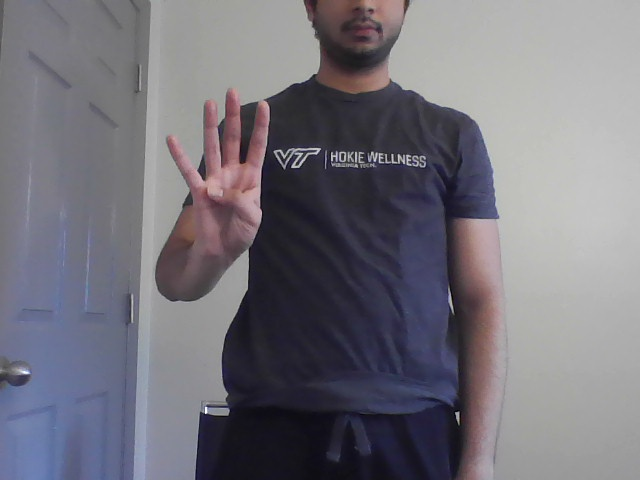four: (162, 84, 280, 249)
